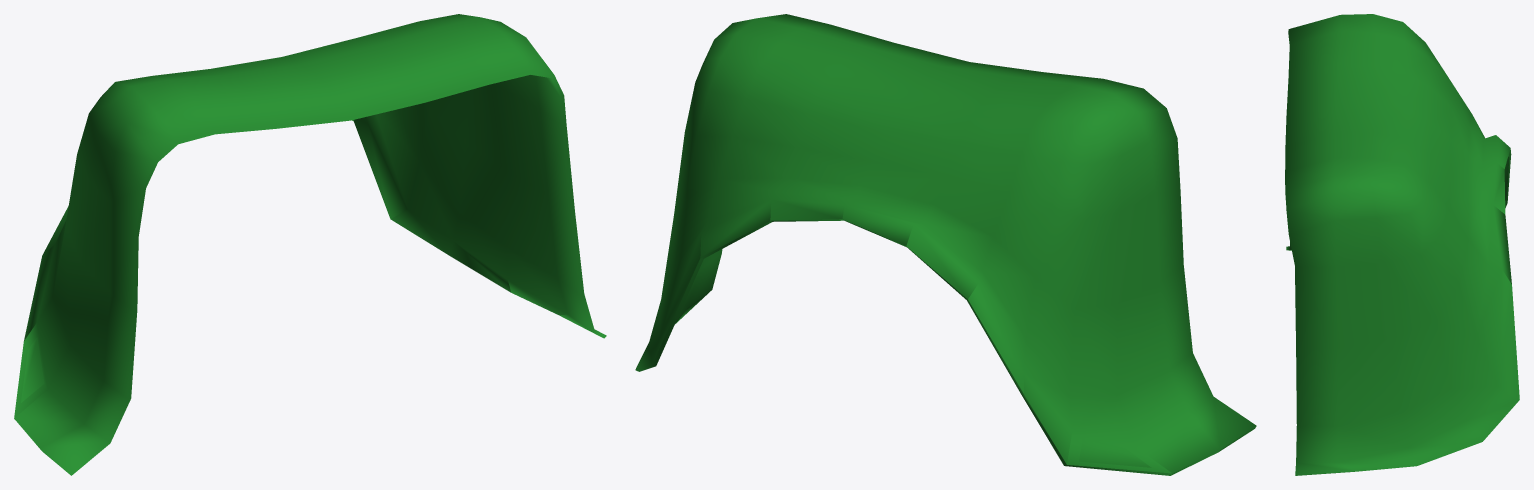
Rendered from apron_pregnancy.fbx.
The picture shows the model from 3 angles, left to right: view 1: azimuth 30°, elevation 25°; view 2: azimuth 150°, elevation 25°; view 3: azimuth 270°, elevation 25°; orthographic projection. The views are drawn at different scales.
Parts seen in each view (by area): view 1: apron_pregnancy; view 2: apron_pregnancy; view 3: apron_pregnancy.
Boxes of the visible parts, bbox=[...] form: apron_pregnancy: bbox=[14, 14, 606, 475]; apron_pregnancy: bbox=[635, 14, 1256, 475]; apron_pregnancy: bbox=[1285, 14, 1519, 475].
Size of the model in its own units: 86.64 by 49.75 by 37.43.
